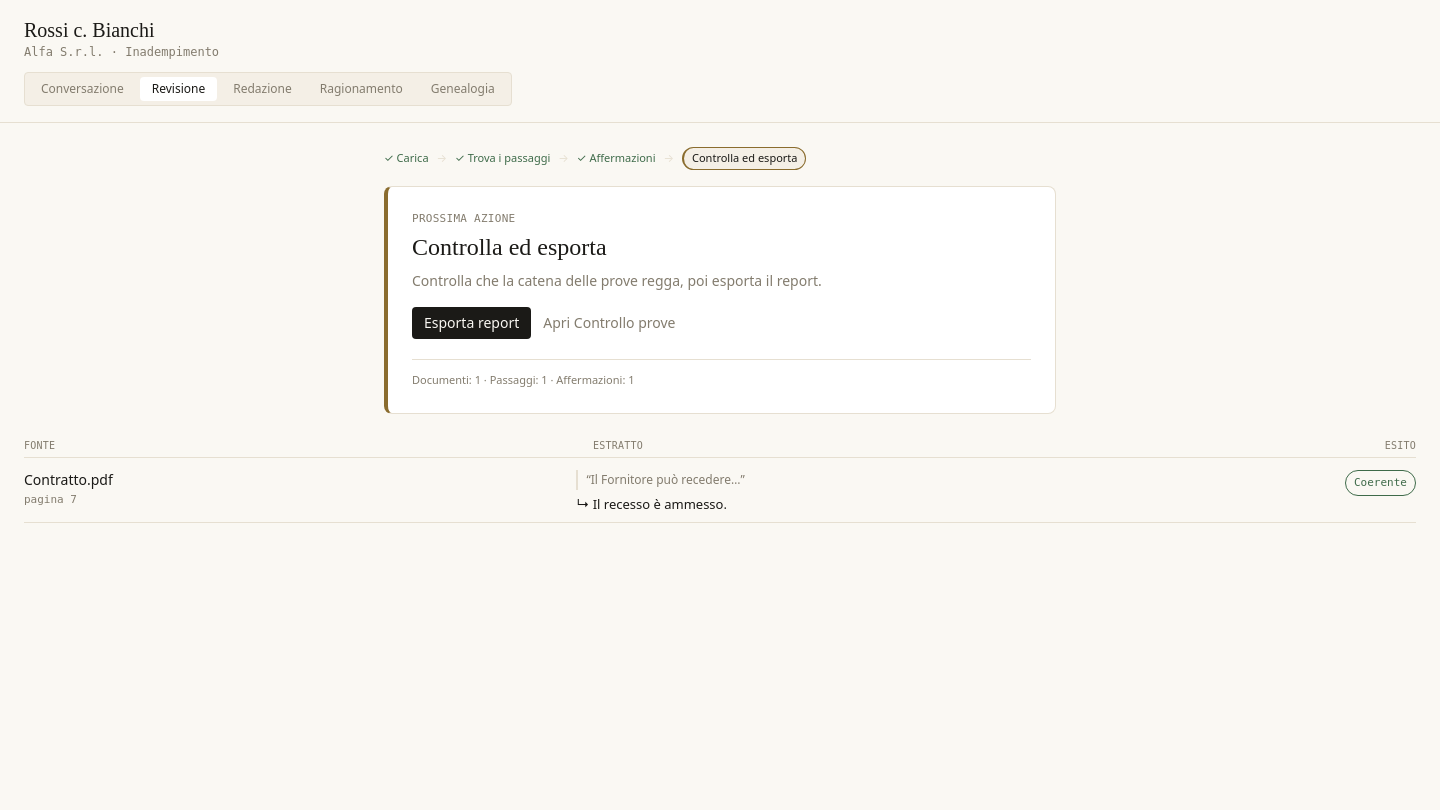
Ragionamento mode is an honest empty-state — NO mock reasoning data
The width and height of the screenshot is (1440, 810).
Click the button "Ragionamento" at (361, 89), box [308,77,415,101]
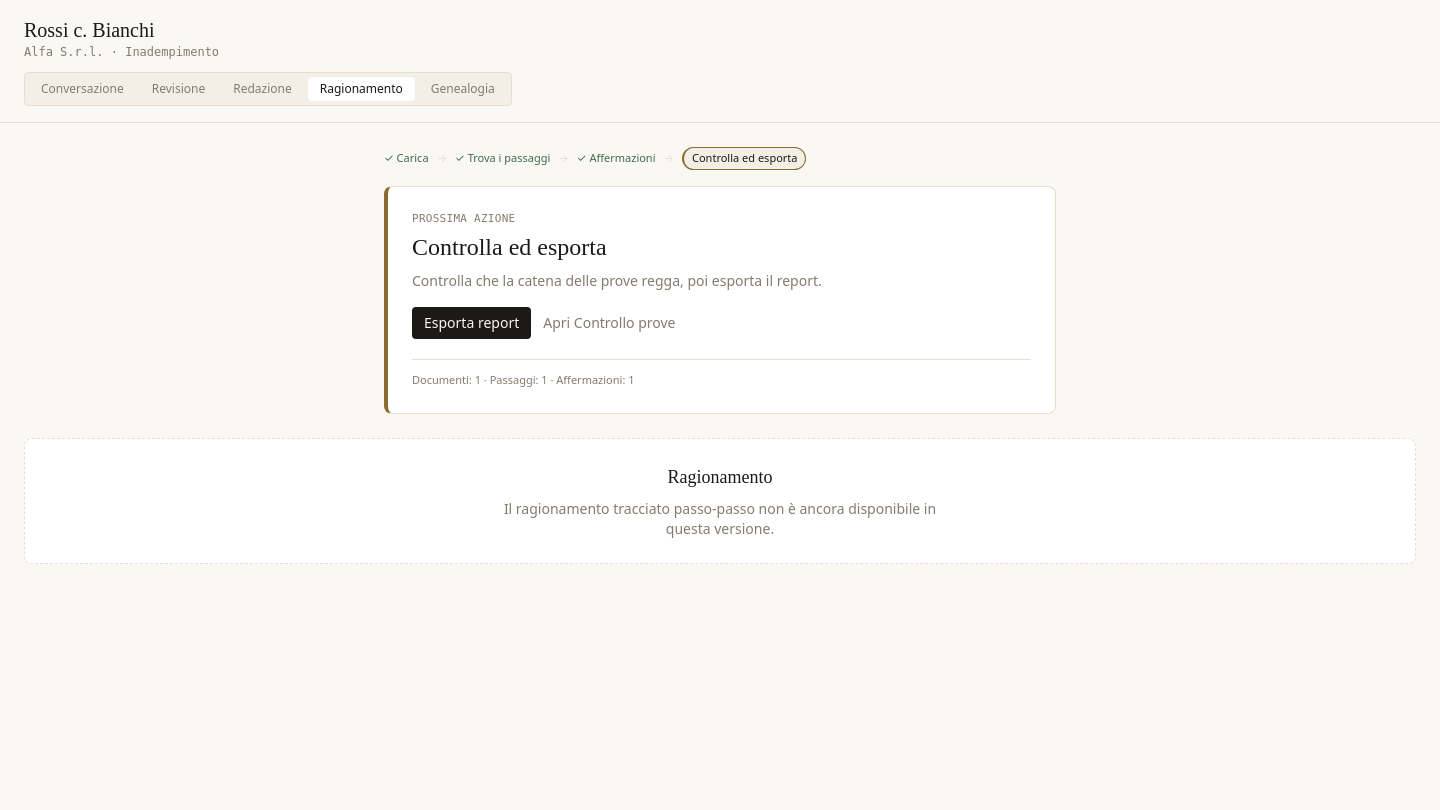
Check: the element with test id "surface-reasoning" is shown, box [24,438,1416,564]
